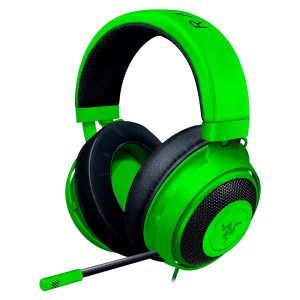headset: (32, 1, 262, 292)
